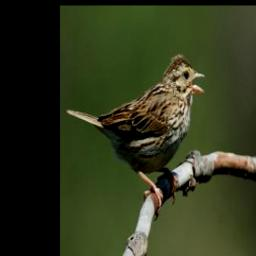Sparrow: (67, 52, 207, 221)
